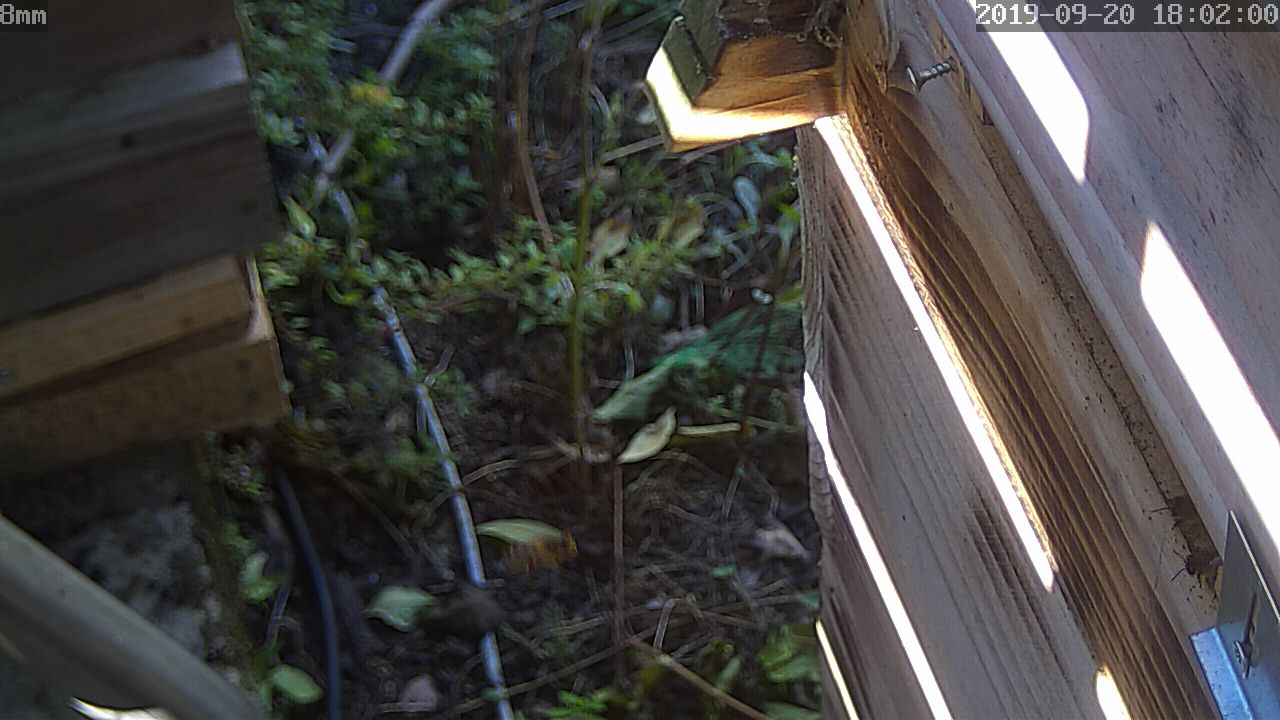bee: (1162, 530, 1224, 591)
